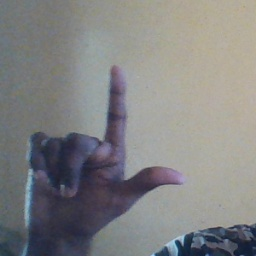L: (22, 64, 185, 231)
